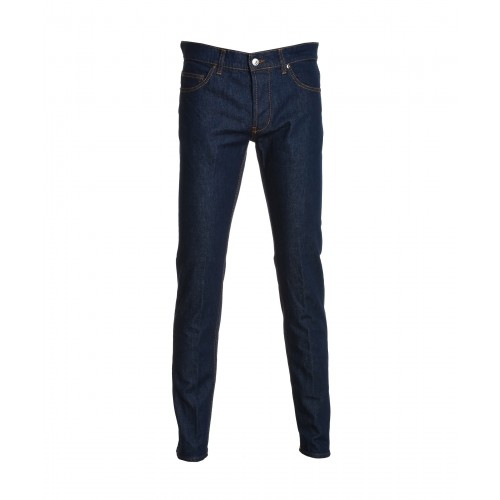jeans: (167, 37, 344, 458)
